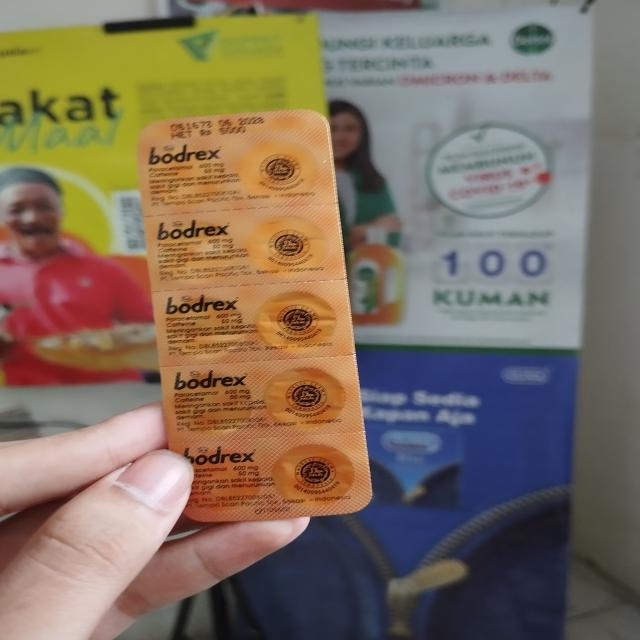B3: (134, 109, 375, 526)
